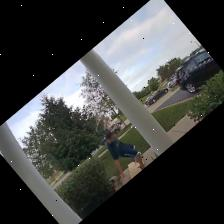person: (104, 118, 144, 182)
